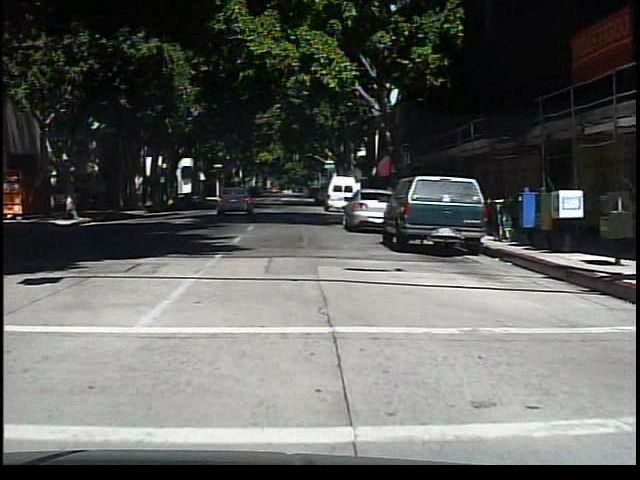person: (59, 178, 76, 220), (294, 180, 313, 207)
